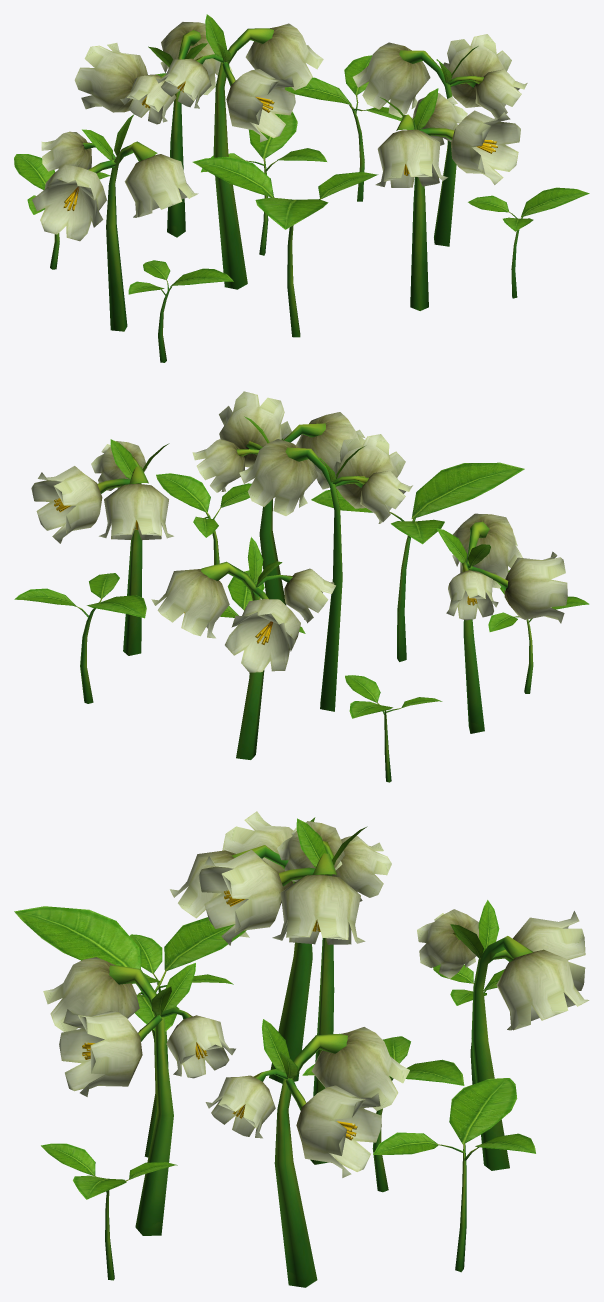
File: flower_10.glb
The picture shows the model from 3 angles, top to bottom: view 1: azimuth 30°, elevation 25°; view 2: azimuth 150°, elevation 25°; view 3: azimuth 270°, elevation 25°; orthographic projection. The views are drawn at different scales.
Visible parts, largest first — view 1: flower_10; view 2: flower_10; view 3: flower_10.
Boxes of the visible parts, left/top/right/bottom form: flower_10: left=14, top=14, right=589, bottom=362; flower_10: left=14, top=391, right=589, bottom=782; flower_10: left=14, top=811, right=589, bottom=1287.
Size of the model in its own units: 4.47 by 2.22 by 3.51.
1 material, 1 textured.
